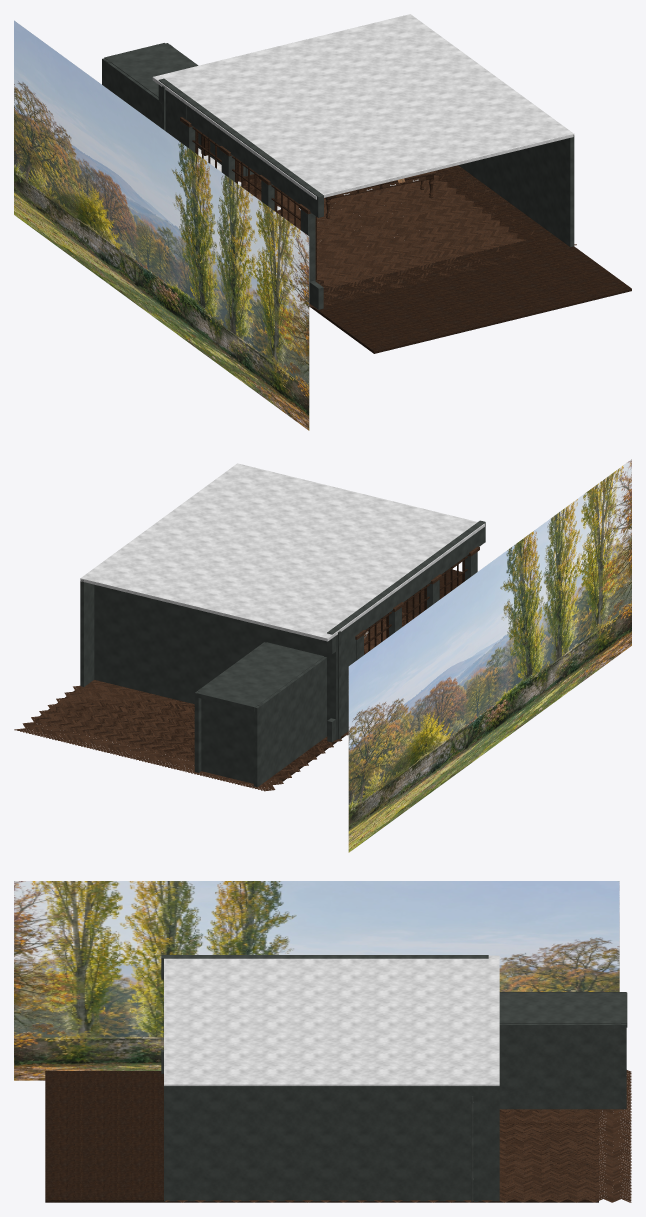
File: war-room.glb
3 views of the same model, one above another, from view 1: azimuth 30°, elevation 25°; view 2: azimuth 150°, elevation 25°; view 3: azimuth 270°, elevation 25° (orthographic). The views are drawn at different scales.
Visible parts, largest first — view 1: Headquarters; view 2: Headquarters; view 3: Headquarters.
Boxes of the visible parts, x1,y1,x2,y2 form: Headquarters: [14, 14, 631, 430]; Headquarters: [14, 459, 631, 852]; Headquarters: [14, 881, 631, 1202].
Size of the model in its own units: 14.79 by 8 by 22.45.
Materials: 19 (19 with a texture image).
